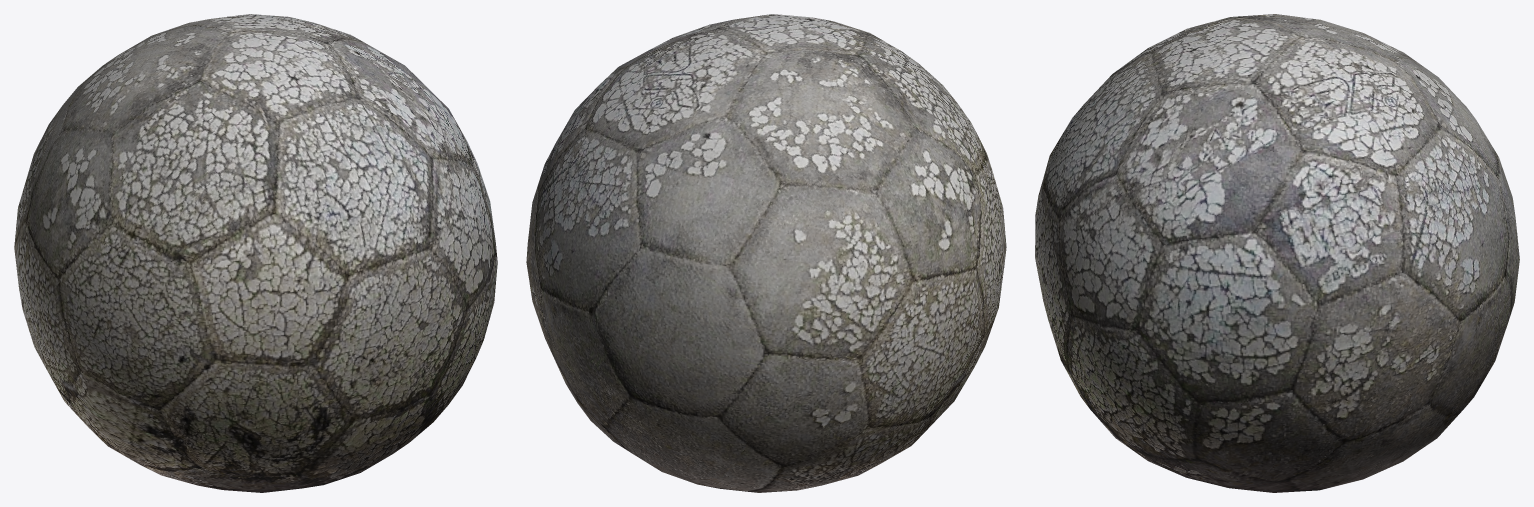
Rendered from balon_futbol.obj.
The picture shows the model from 3 angles, left to right: view 1: azimuth 30°, elevation 25°; view 2: azimuth 150°, elevation 25°; view 3: azimuth 270°, elevation 25°; orthographic projection.
Parts seen in each view (by area): view 1: Old_soccer_ball; view 2: Old_soccer_ball; view 3: Old_soccer_ball.
Part boxes in pixels (x1,y1,x2,y2): Old_soccer_ball: (14,14,497,492); Old_soccer_ball: (526,14,1006,492); Old_soccer_ball: (1035,14,1519,492).
Bounding box in the file's own units: 1.13 × 1.12 × 1.14.
Materials: 1 (1 with a texture image).
